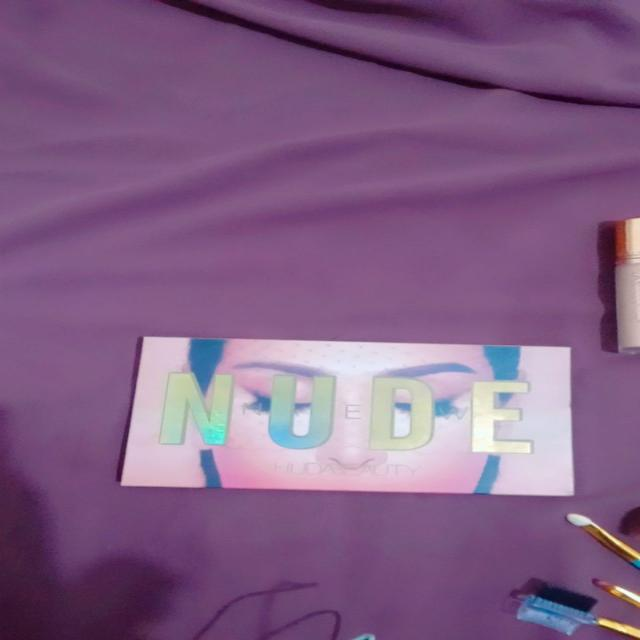makeup: (96, 306, 595, 507)
